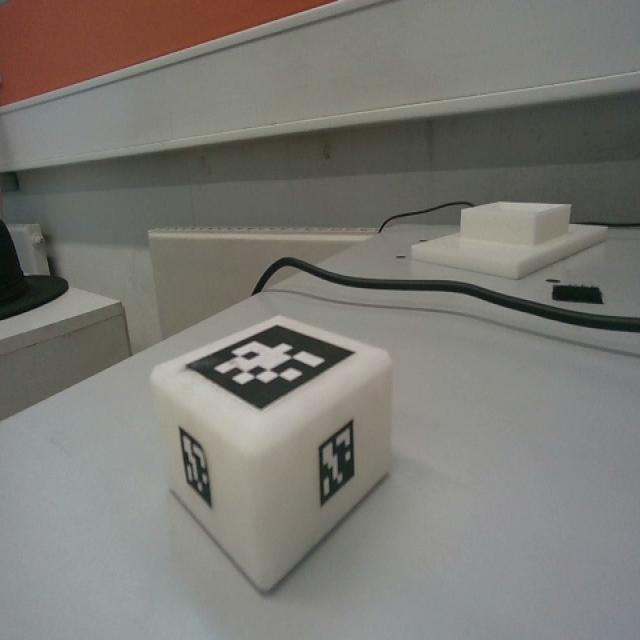Cube: (150, 311, 394, 600)
